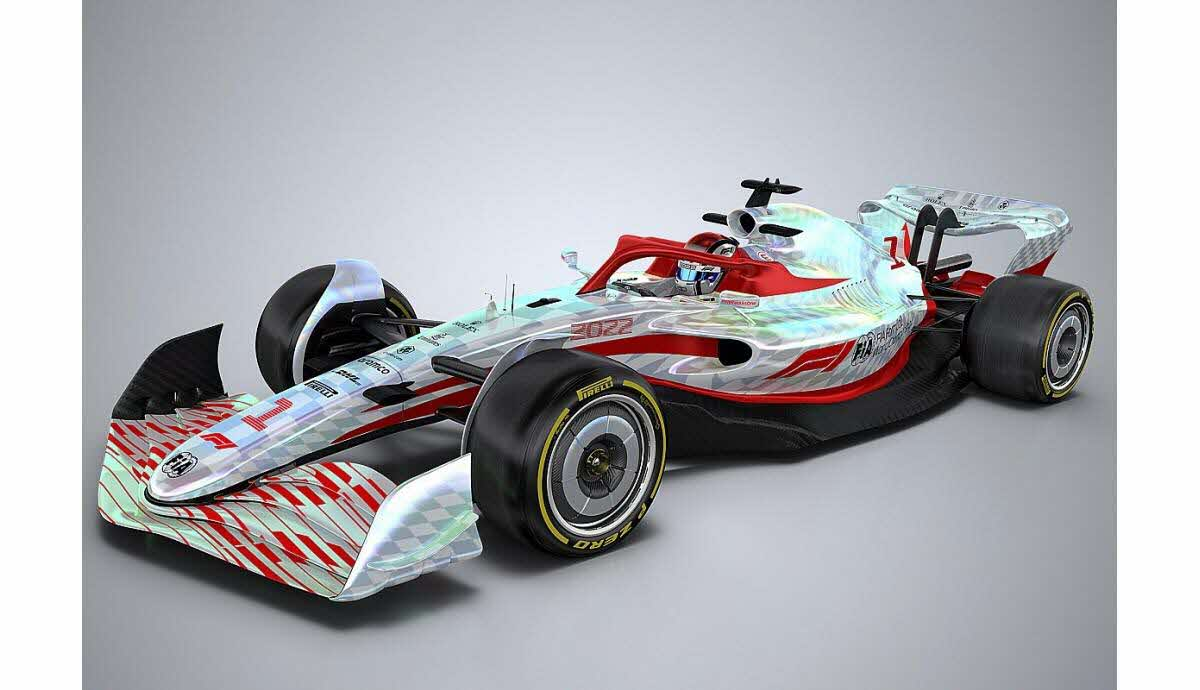Formule 1: (96, 172, 1085, 600)
